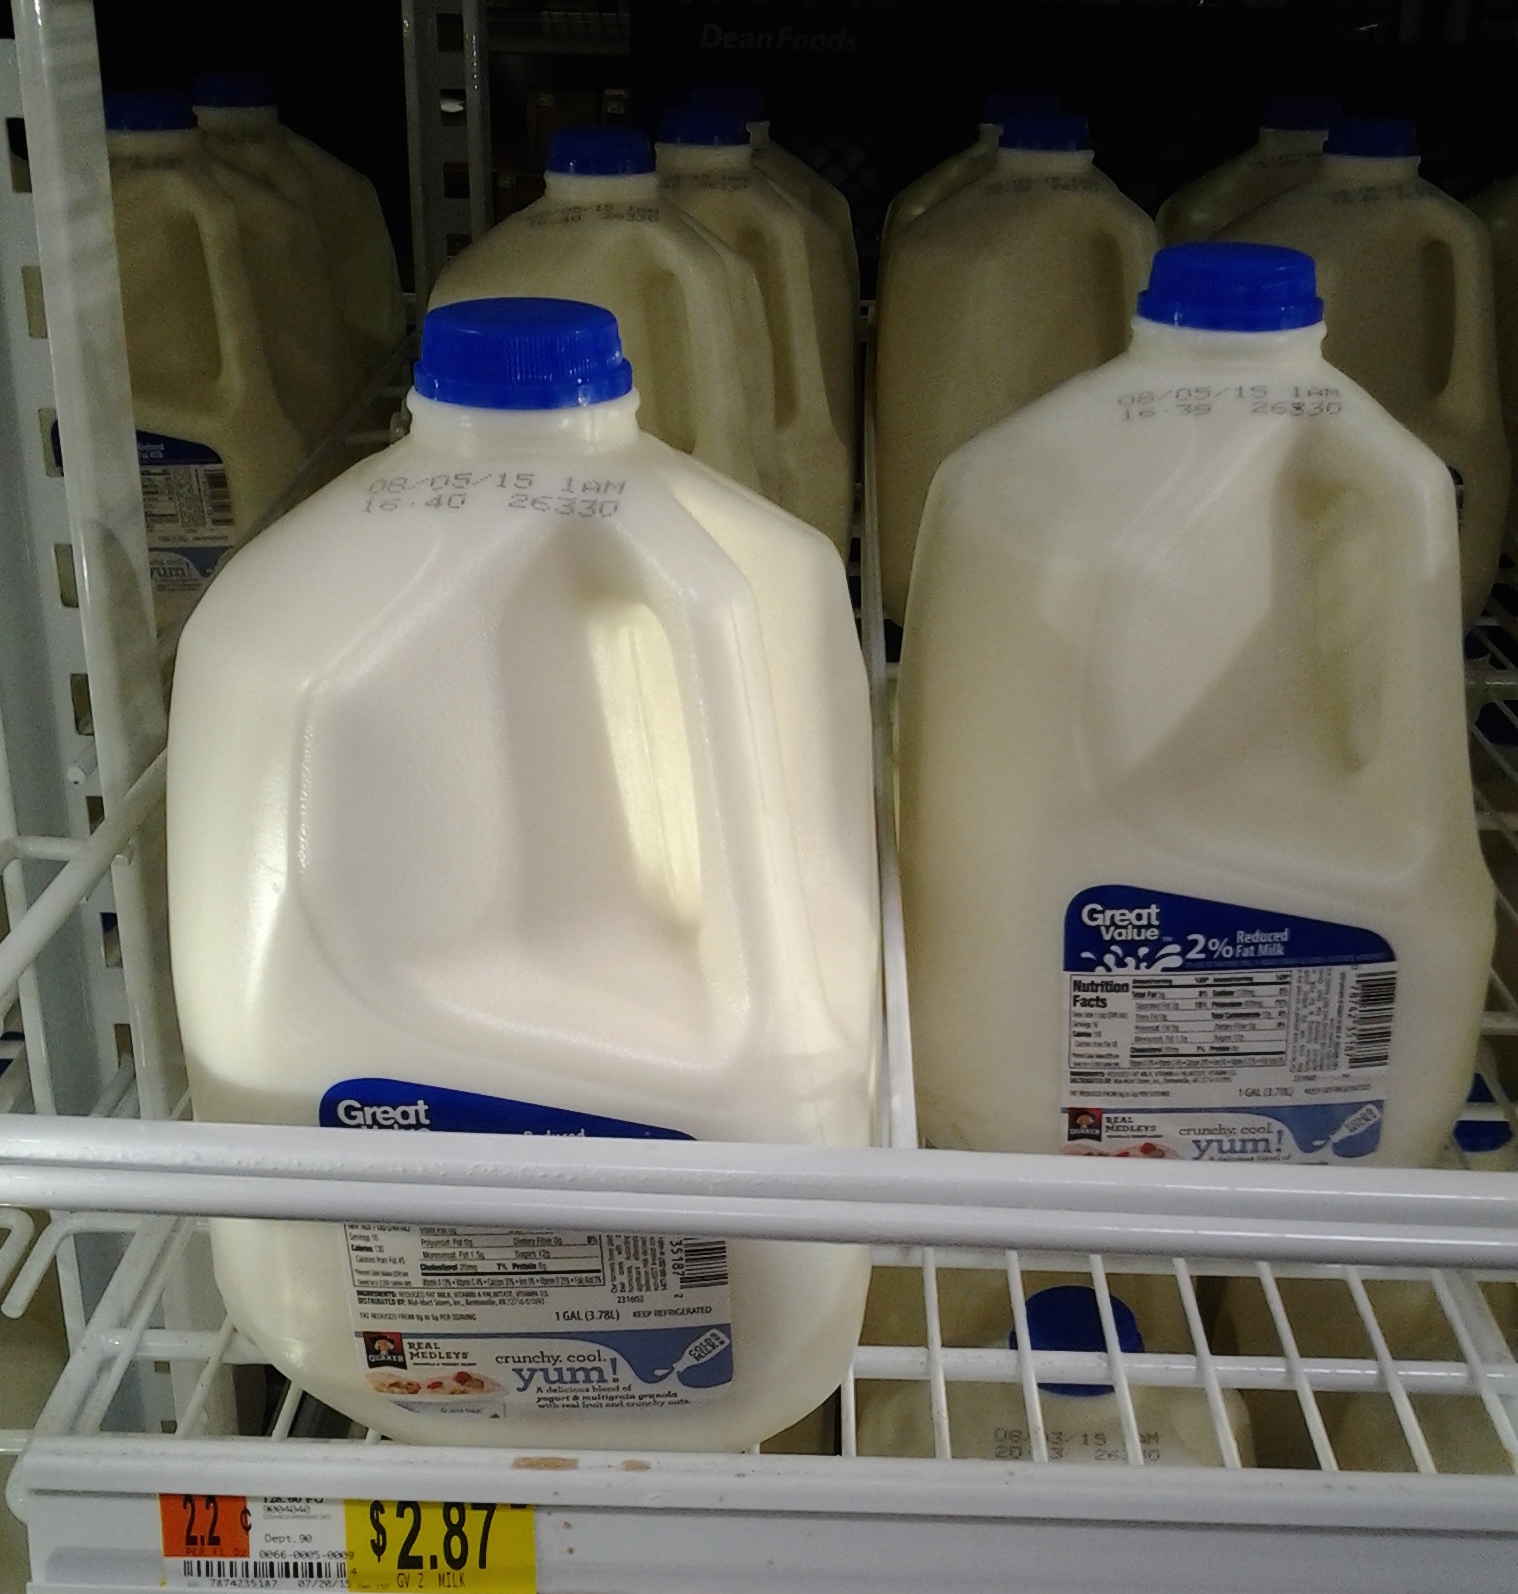milk: (178, 313, 893, 1168), (935, 275, 1511, 1166), (514, 149, 864, 453), (1275, 93, 1514, 389), (899, 120, 1154, 369)
